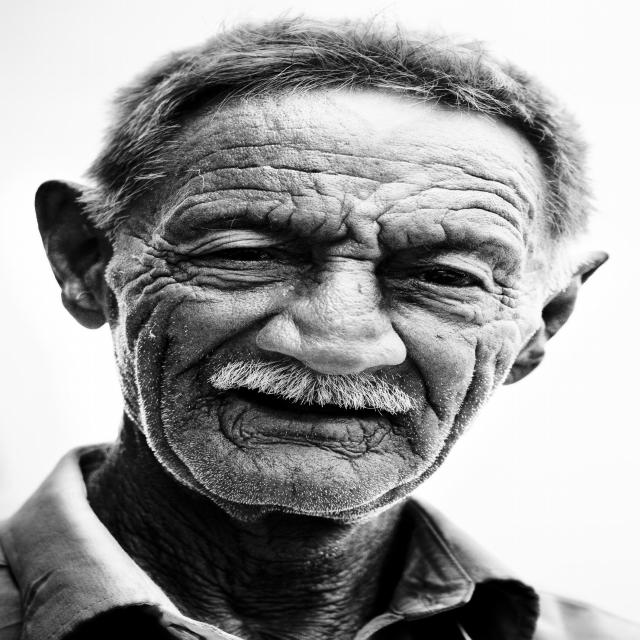earlobe: (506, 250, 611, 384), (32, 179, 108, 330)
